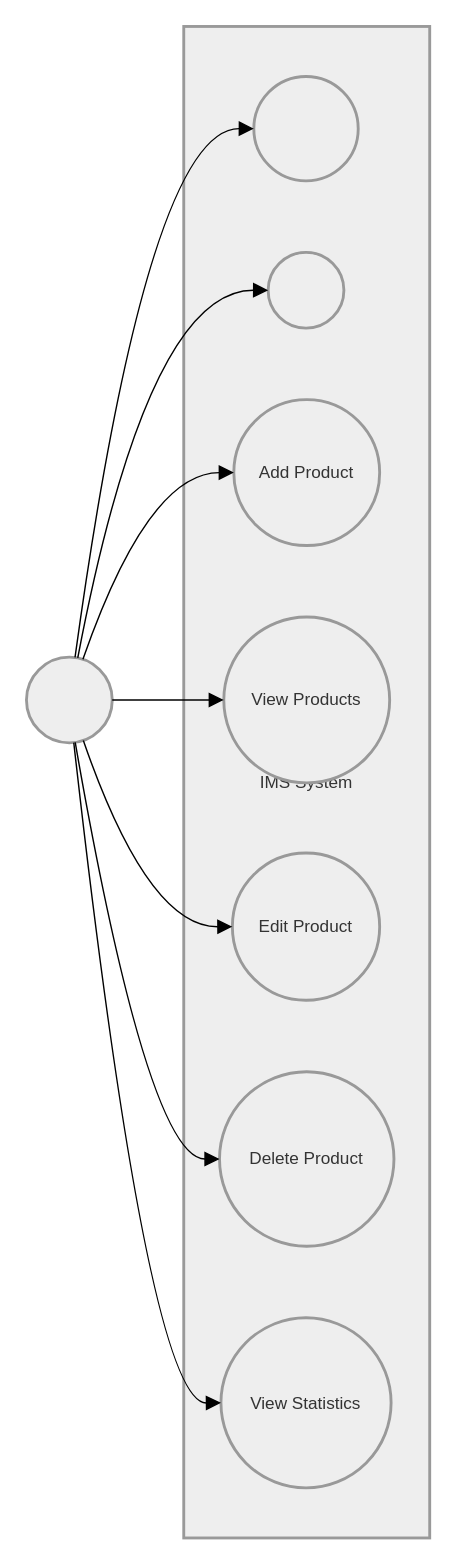
The diagram is 455 pixels wide and 1563 high, and some of its shapes have lost their labels. Here are the shapes that lost their labels. From the top down, the centre of each, then its label:
At (x=305, y=128): "Register".
At (x=305, y=289): "Login".
At (x=68, y=699): "Admin".
